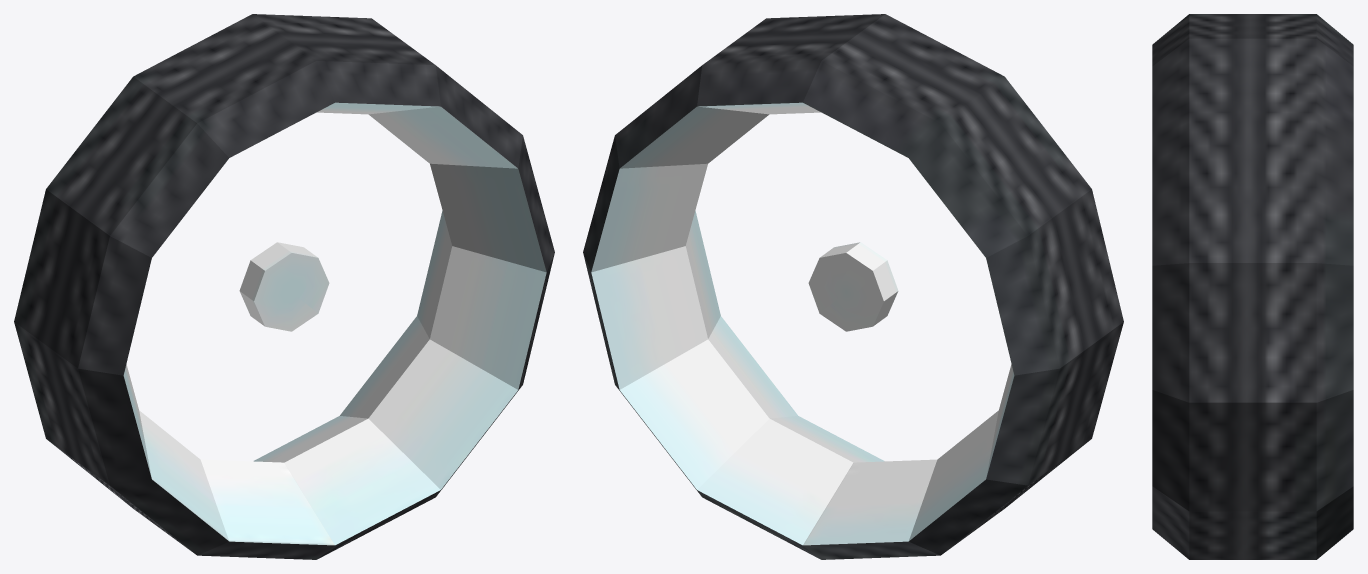
Rendered from smwheel.glb.
The picture shows the model from 3 angles, left to right: view 1: azimuth 30°, elevation 25°; view 2: azimuth 150°, elevation 25°; view 3: azimuth 270°, elevation 25°; orthographic projection.
Parts seen in each view (by area): view 1: wheel4; view 2: wheel4; view 3: wheel4.
Boxes of the visible parts, x1=… form: wheel4: x1=14, y1=14, x2=554, y2=559; wheel4: x1=583, y1=14, x2=1123, y2=559; wheel4: x1=1152, y1=14, x2=1353, y2=559.
Size of the model in its own units: 1.82 by 1.82 by 0.6697.
Materials: 1 (1 with a texture image).
